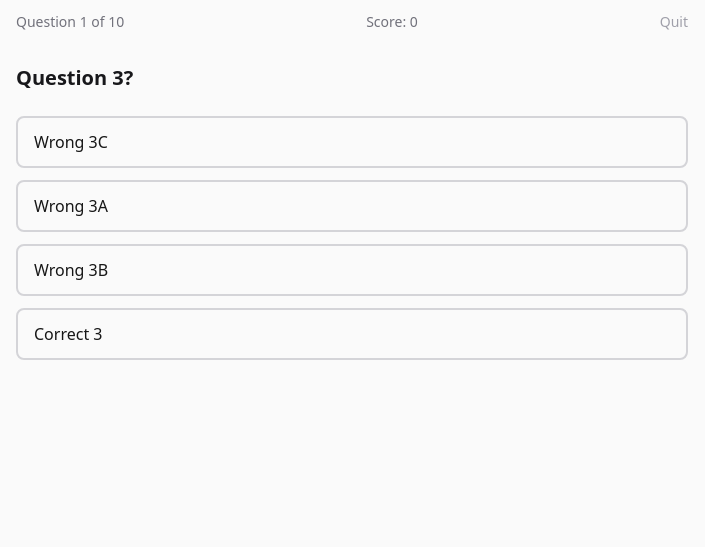
QuizPage › should show explanation when wrong answer is selected
# Click wrong answer
Click the button "Wrong 3A": click(71, 206) [16,180,688,232]
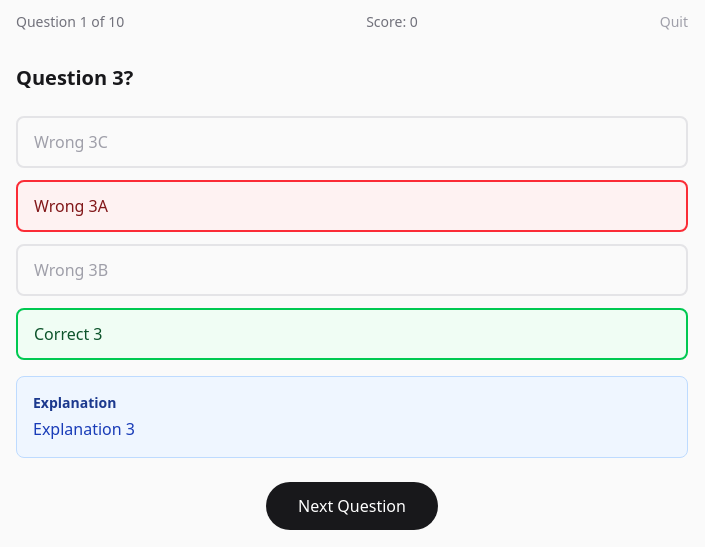
Expected: the text "Explanation 3" is shown, [33,418,135,440]
